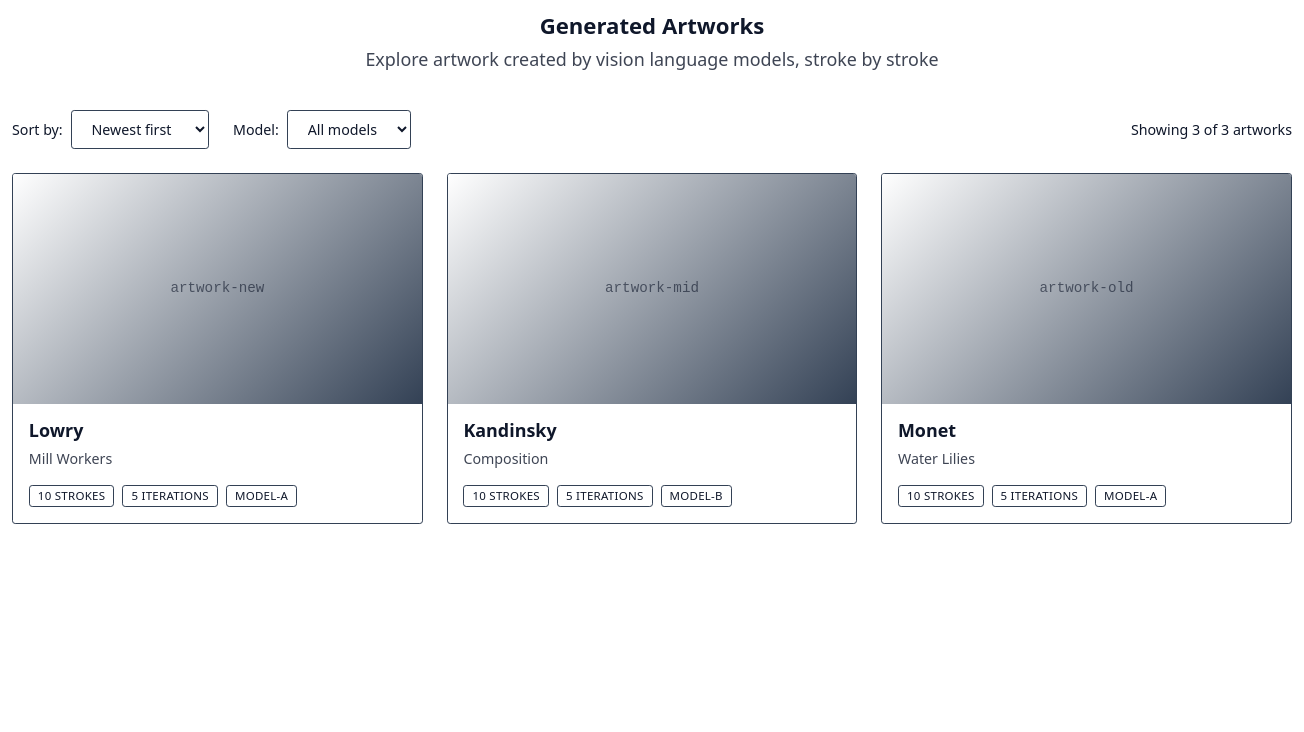
Test: Gallery › Count display › updates count when filter narrows results
Select "model-b" in the dropdown labelled "Model:": (349, 130) [287, 110, 411, 149]
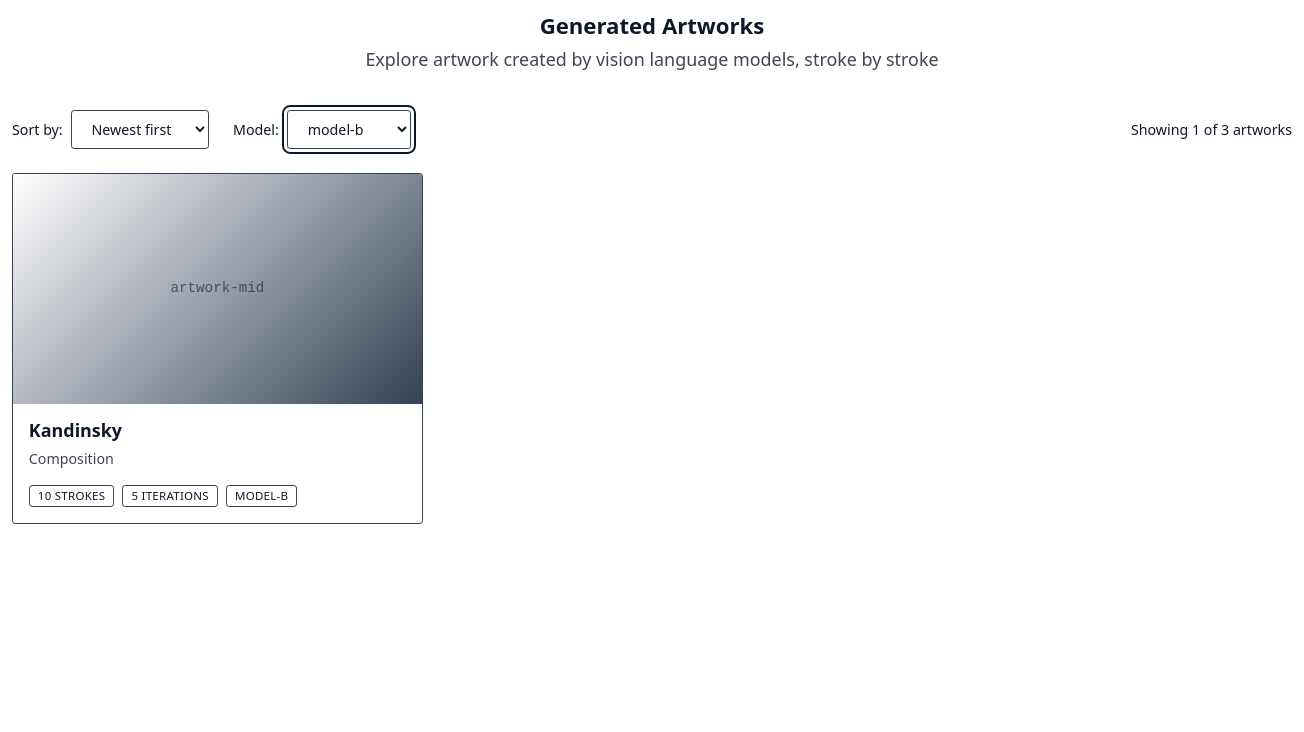
Expected: the text "Showing 1 of 3 artworks" is shown, [1131, 120, 1292, 140]
